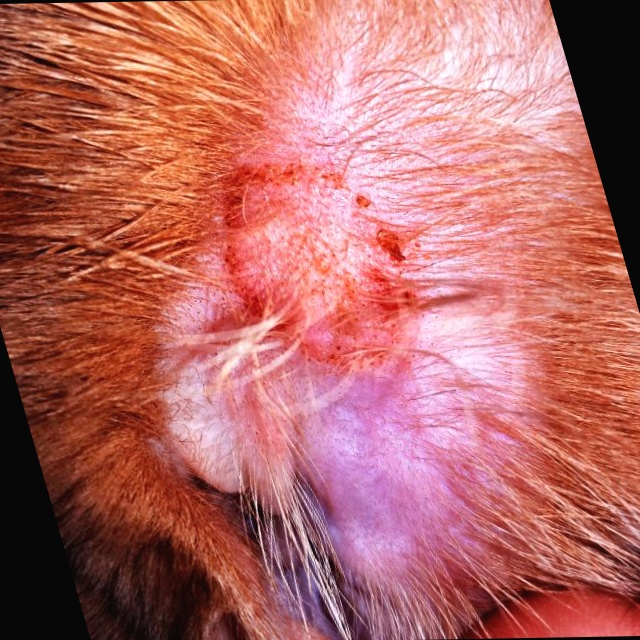ringworm: (196, 158, 434, 381)
